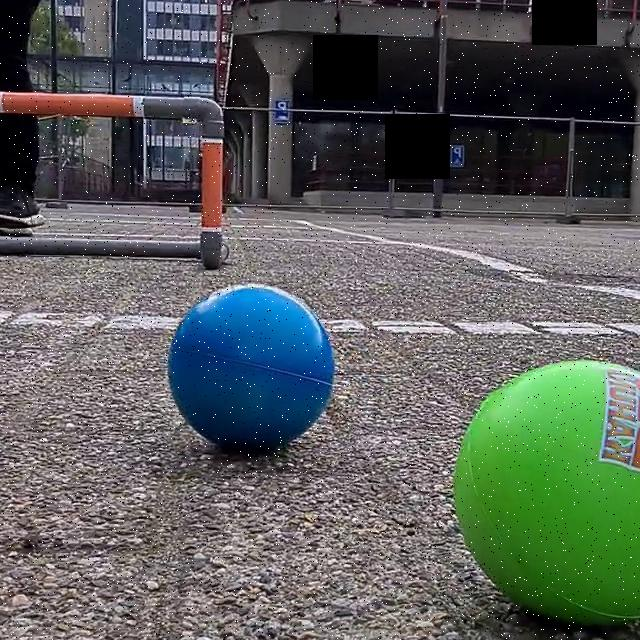ball: (168, 282, 338, 455)
